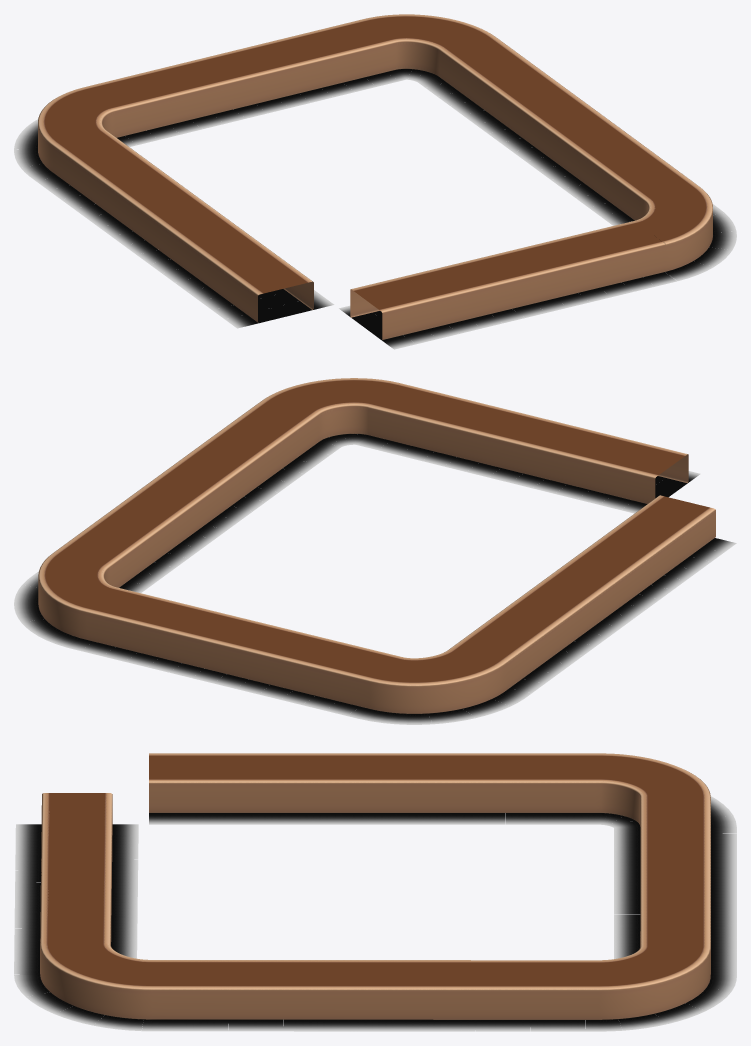
Rendered from WoodSpline.fbx.
The picture shows the model from 3 angles, top to bottom: view 1: azimuth 30°, elevation 25°; view 2: azimuth 150°, elevation 25°; view 3: azimuth 270°, elevation 25°; orthographic projection. The views are drawn at different scales.
Parts seen in each view (by area): view 1: WoodSpline, Shadow; view 2: WoodSpline, Shadow; view 3: WoodSpline, Shadow.
Part boxes in pixels (<box>): WoodSpline: <box>38,14,712,339</box>; Shadow: <box>14,69,736,349</box>; WoodSpline: <box>38,378,715,713</box>; Shadow: <box>14,434,736,724</box>; WoodSpline: <box>40,753,710,1019</box>; Shadow: <box>14,796,736,1031</box>.
Size of the model in its own units: 1626 by 91.65 by 1921.
